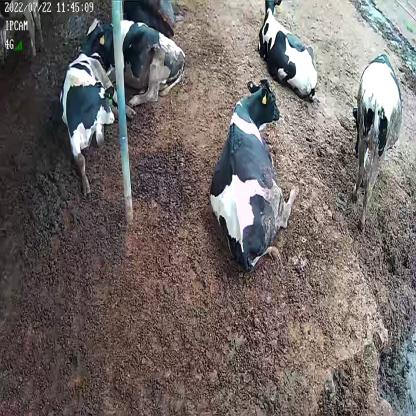cow: (209, 78, 300, 270), (62, 53, 138, 199), (77, 12, 186, 110), (350, 57, 403, 224), (258, 1, 319, 103)
